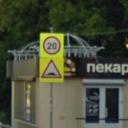speed_limit_20: (42, 36, 62, 56)
